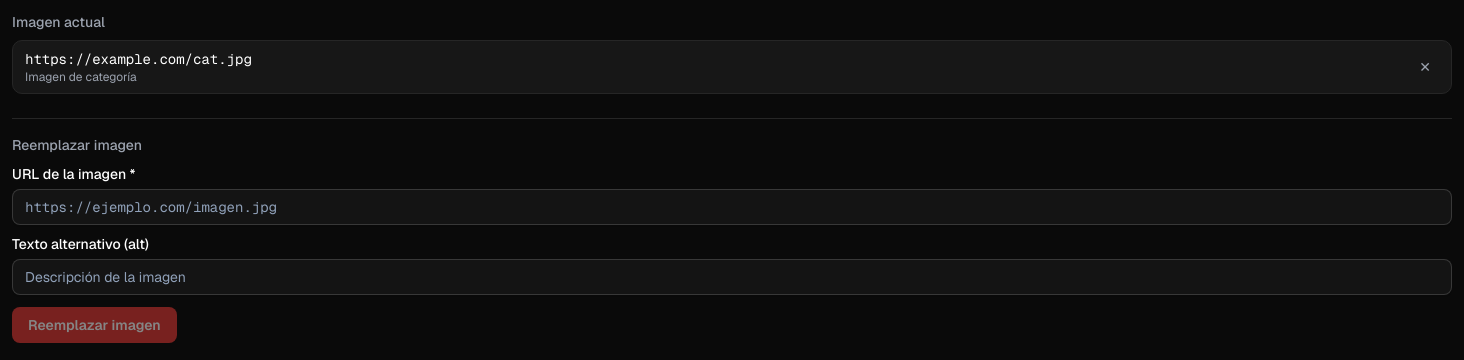
Test: CategoryImagePanel › eliminar imagen › muestra 'Sin imagen asignada' tras eliminar
Expected: the text "https://example.com/cat.jpg" is shown, [25,50,252,68]
Click the button titled "Eliminar": (1425, 67) [1411,53,1439,81]
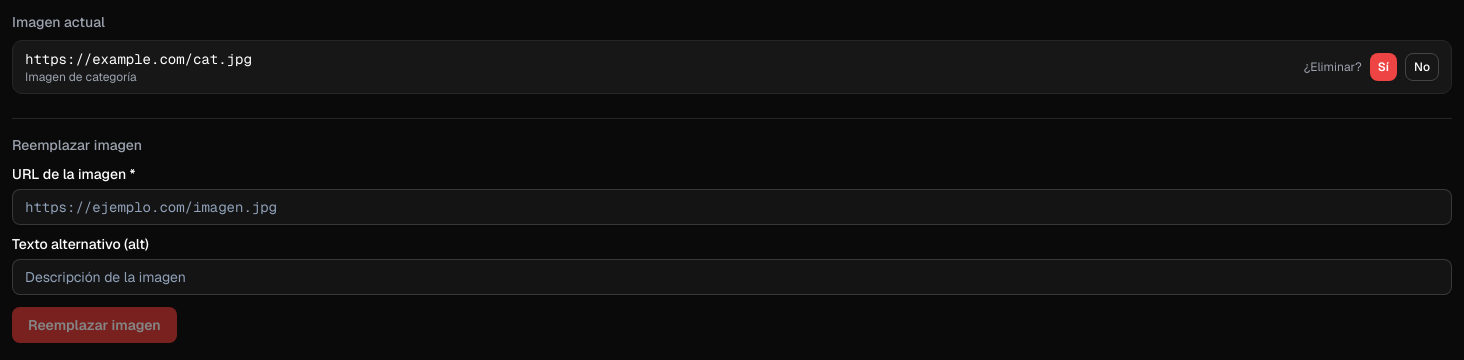
Click the button "Sí": (1384, 67) [1370,53,1397,81]
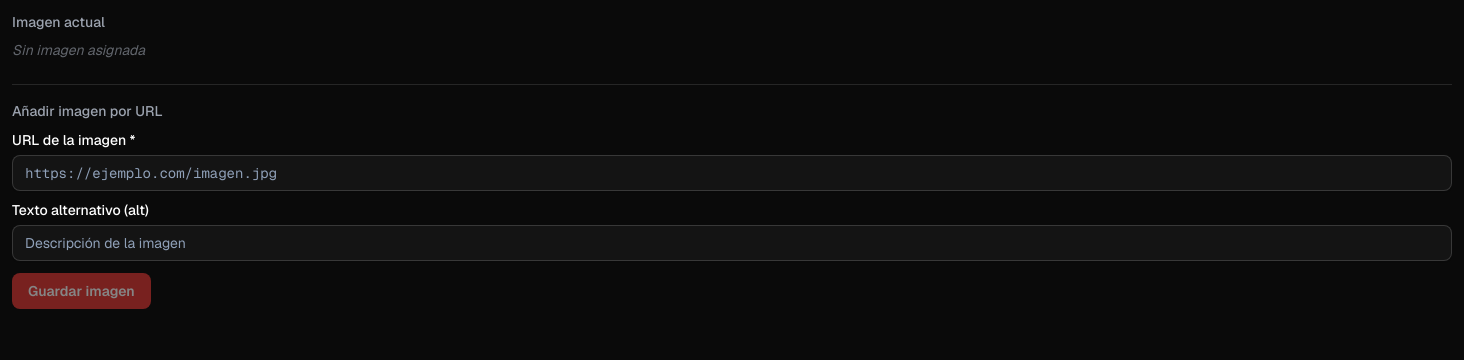
Result: the text "Sin imagen asignada" is shown at [12,41,145,59]
